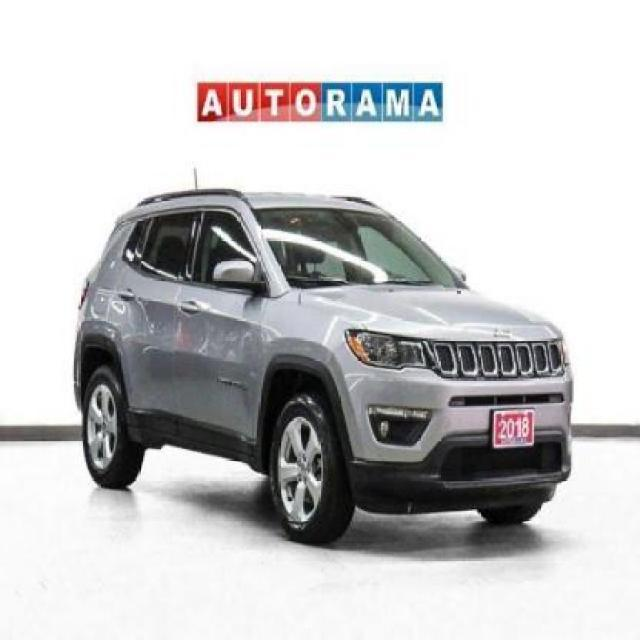vehicle: (60, 171, 589, 540)
